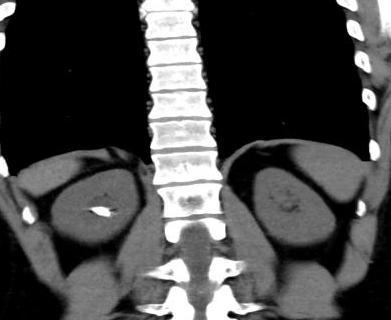Tas_Var: (88, 204, 118, 221)
